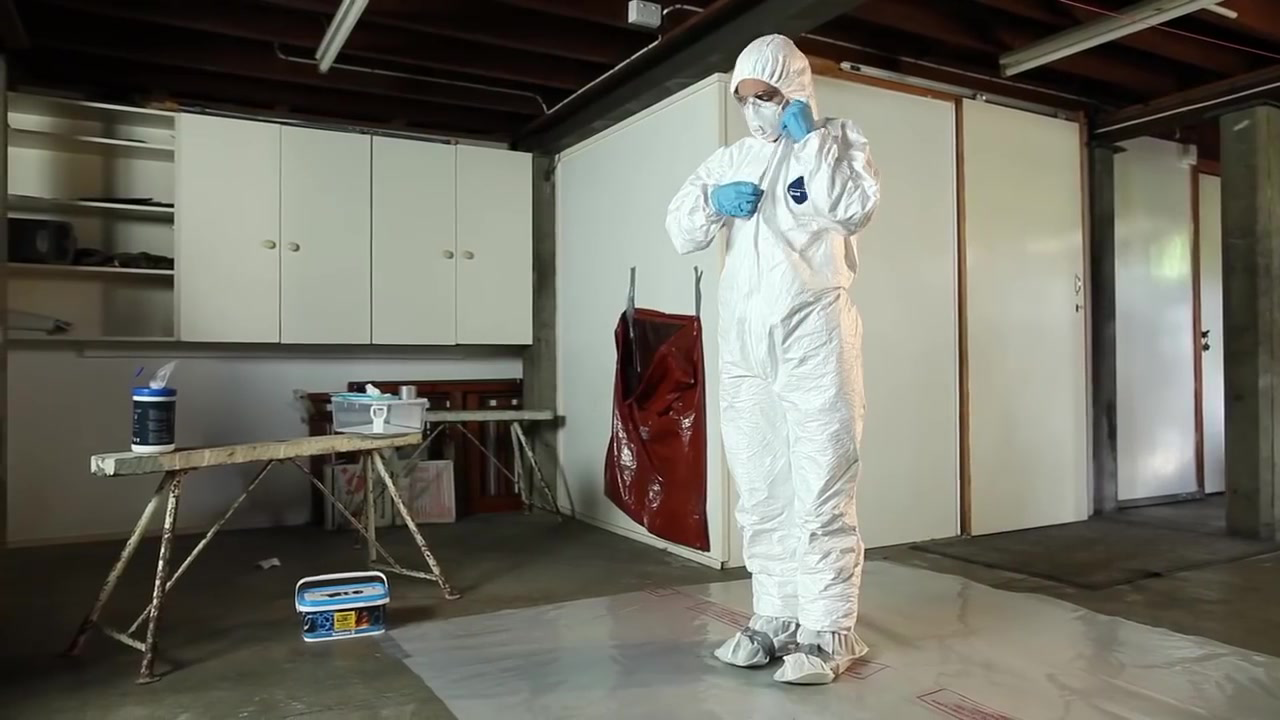Coverall: (655, 55, 901, 700)
Gloves: (707, 181, 767, 224), (781, 99, 819, 139)
with_mask: (735, 94, 785, 142)
